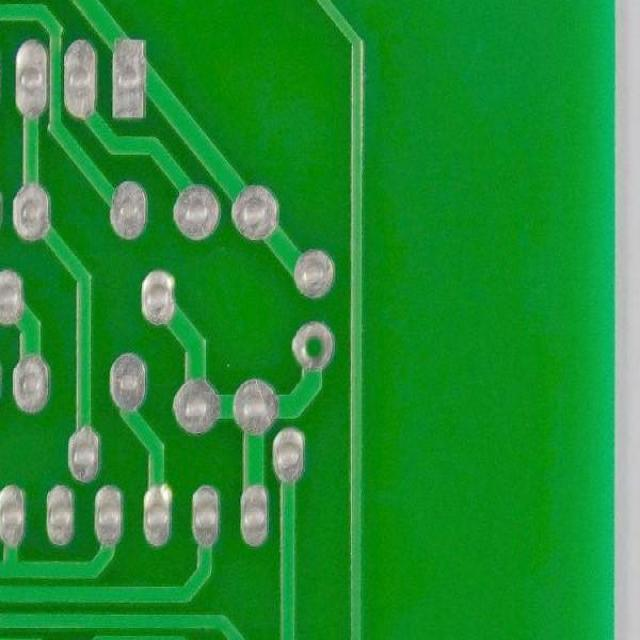missing hole: (289, 313, 340, 380)
